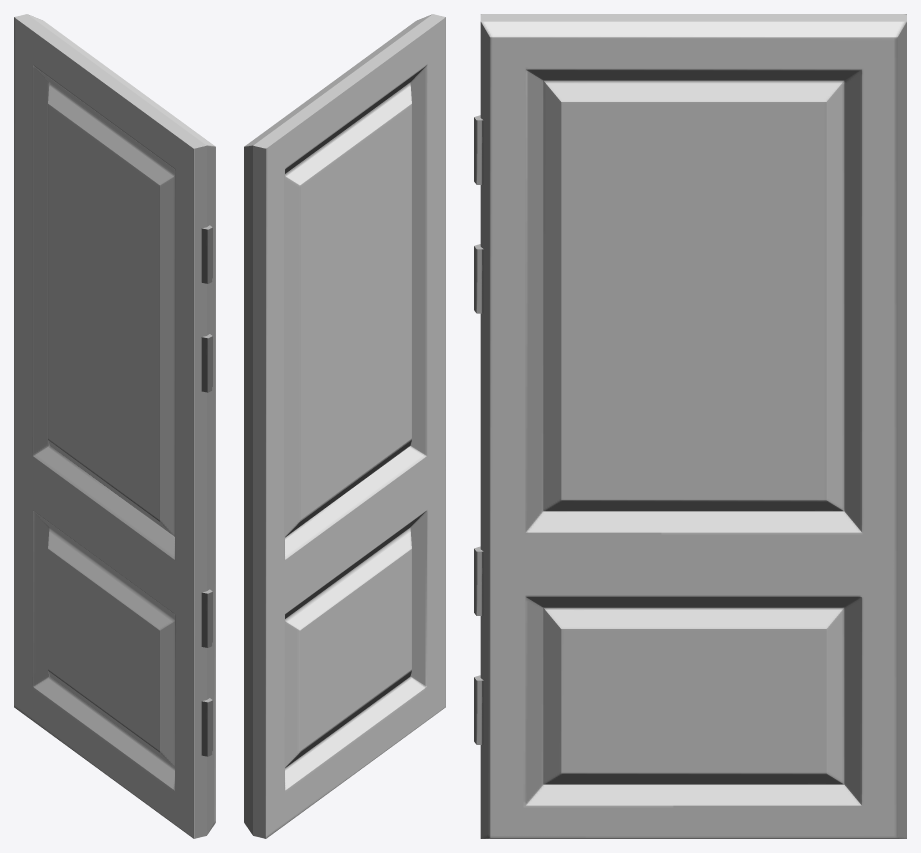
The model's file is office_pack_demoRoom_door_1.fbx.
3 views of the same model, side by side, from view 1: azimuth 30°, elevation 25°; view 2: azimuth 150°, elevation 25°; view 3: azimuth 270°, elevation 25° (orthographic). The views are drawn at different scales.
Visible parts, largest first — view 1: office_pack_demoRoom_door_1; view 2: office_pack_demoRoom_door_1; view 3: office_pack_demoRoom_door_1.
Boxes of the visible parts, left/top/right/bottom form: office_pack_demoRoom_door_1: left=14, top=14, right=215, bottom=838; office_pack_demoRoom_door_1: left=244, top=14, right=445, bottom=838; office_pack_demoRoom_door_1: left=474, top=14, right=906, bottom=838.
Size of the model in its own units: 5 by 127 by 60.95.
